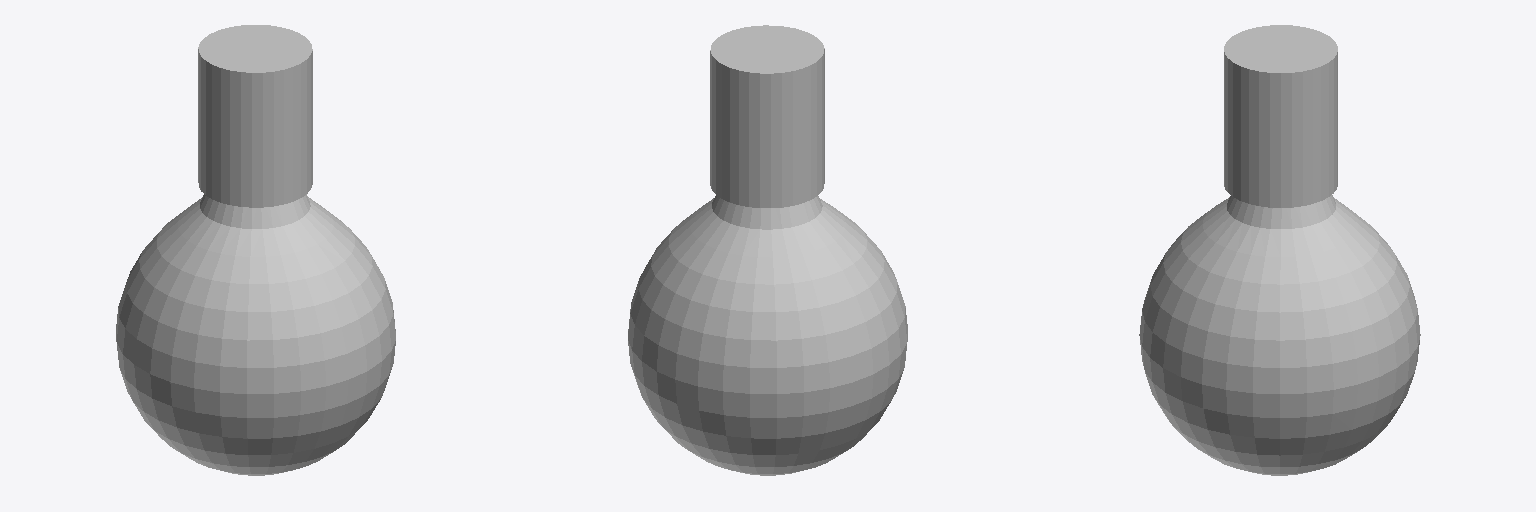
File: bulb.obj
3 views of the same model, side by side, from view 1: azimuth 30°, elevation 25°; view 2: azimuth 150°, elevation 25°; view 3: azimuth 270°, elevation 25° (orthographic).
Parts seen in each view (by area): view 1: Cylinder_Cylinder.001; view 2: Cylinder_Cylinder.001; view 3: Cylinder_Cylinder.001.
Boxes of the visible parts, x1=… form: Cylinder_Cylinder.001: x1=116, y1=25, x2=395, y2=475; Cylinder_Cylinder.001: x1=628, y1=25, x2=907, y2=475; Cylinder_Cylinder.001: x1=1139, y1=25, x2=1420, y2=475.
Bounding box in the file's own units: 1.23 × 2 × 1.23.